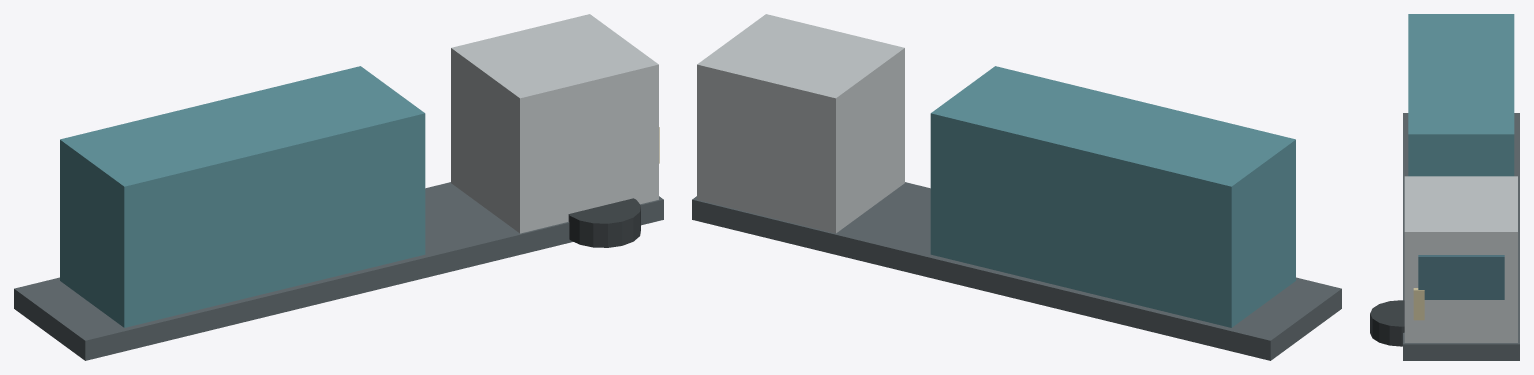
Rendered from truck-lod0.glb.
The picture shows the model from 3 angles, left to right: view 1: azimuth 30°, elevation 25°; view 2: azimuth 150°, elevation 25°; view 3: azimuth 270°, elevation 25°; orthographic projection. The views are drawn at different scales.
Visible parts, largest first — view 1: load, cab, chassis, wheel; view 2: load, cab, chassis; view 3: load, cab, windshield, chassis, wheel, light-0.
Boxes of the visible parts, <box> form: load: <box>60,66,425,327</box>; cab: <box>451,14,658,233</box>; chassis: <box>14,182,663,360</box>; wheel: <box>568,198,640,247</box>; load: <box>930,66,1295,327</box>; cab: <box>697,14,904,233</box>; chassis: <box>692,182,1341,360</box>; load: <box>1408,14,1514,176</box>; cab: <box>1404,176,1517,342</box>; windshield: <box>1418,255,1504,299</box>; chassis: <box>1403,113,1519,360</box>; wheel: <box>1370,300,1404,346</box>; light-0: <box>1413,288,1424,320</box>.
Size of the model in its own units: 7.53 by 2 by 2.05.
